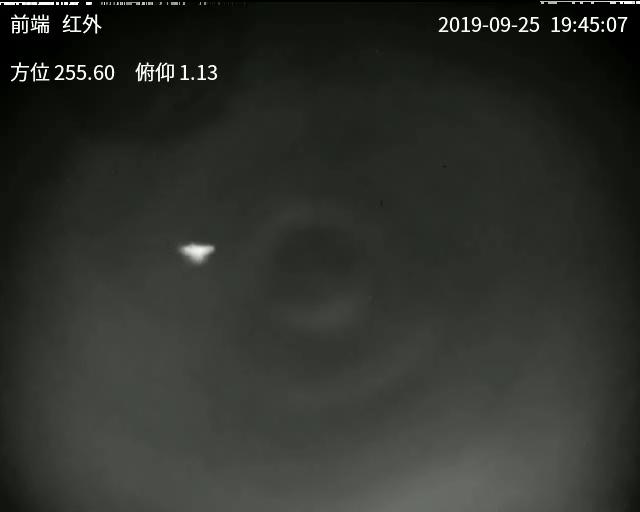uav: (175, 238, 219, 264)
